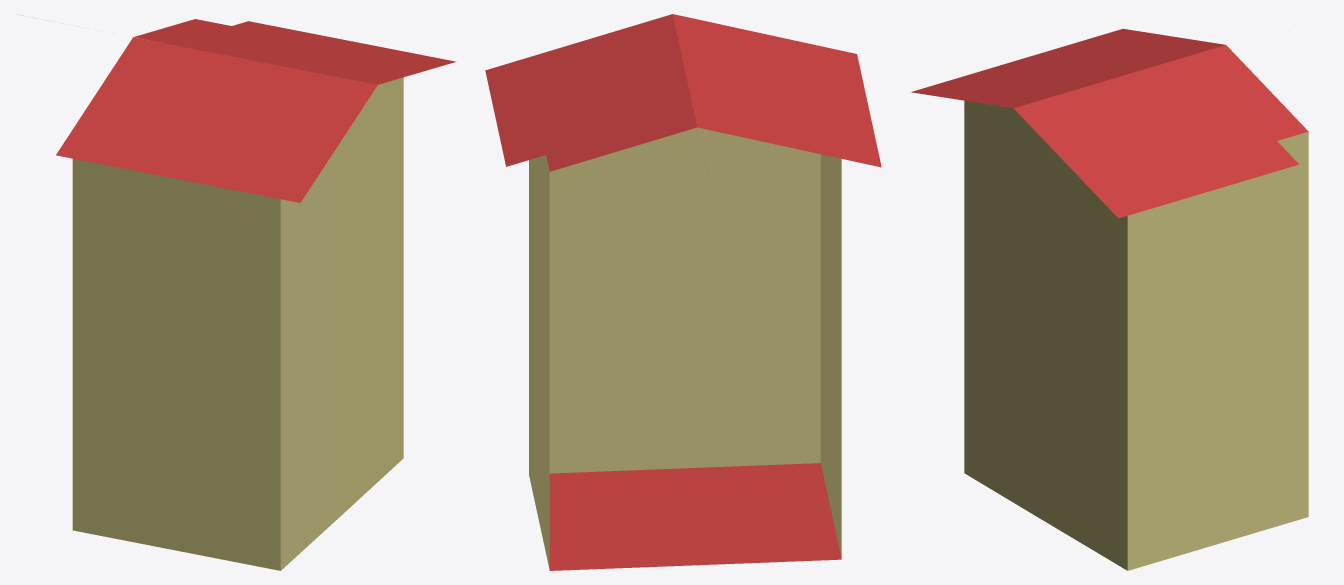
The picture shows the model from 3 angles, left to right: view 1: azimuth 30°, elevation 25°; view 2: azimuth 150°, elevation 25°; view 3: azimuth 270°, elevation 25°; orthographic projection. The views are drawn at different scales.
Size of the model in its own units: 8.6 by 8.11 by 9.02.
